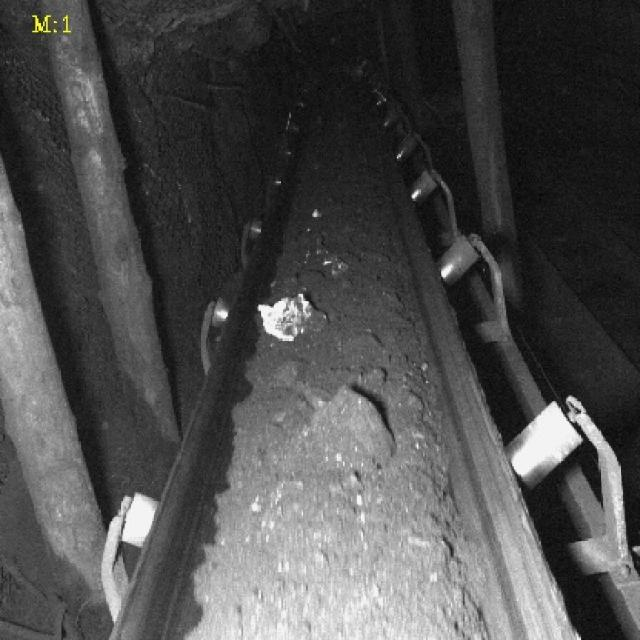Other_garbage: (256, 291, 322, 340)
large_sized_coal: (303, 384, 394, 464)
